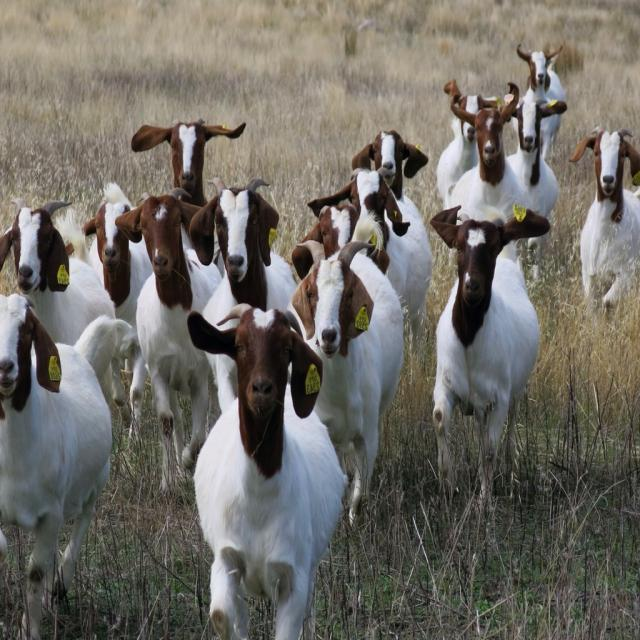Goat: (188, 302, 349, 638), (1, 292, 133, 638), (430, 201, 551, 517), (287, 238, 405, 528), (1, 196, 133, 420), (569, 124, 640, 318), (132, 117, 247, 206), (517, 42, 567, 158)
